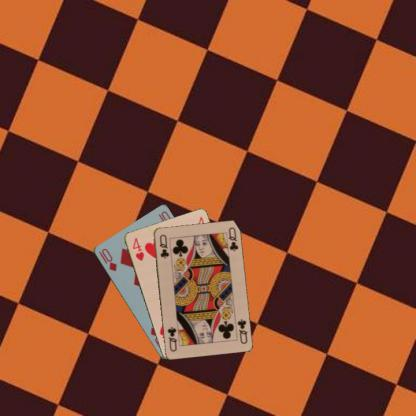10d: (96, 245, 118, 272)
4h: (130, 235, 145, 262)
Qc: (234, 316, 249, 345), (156, 232, 170, 259)
